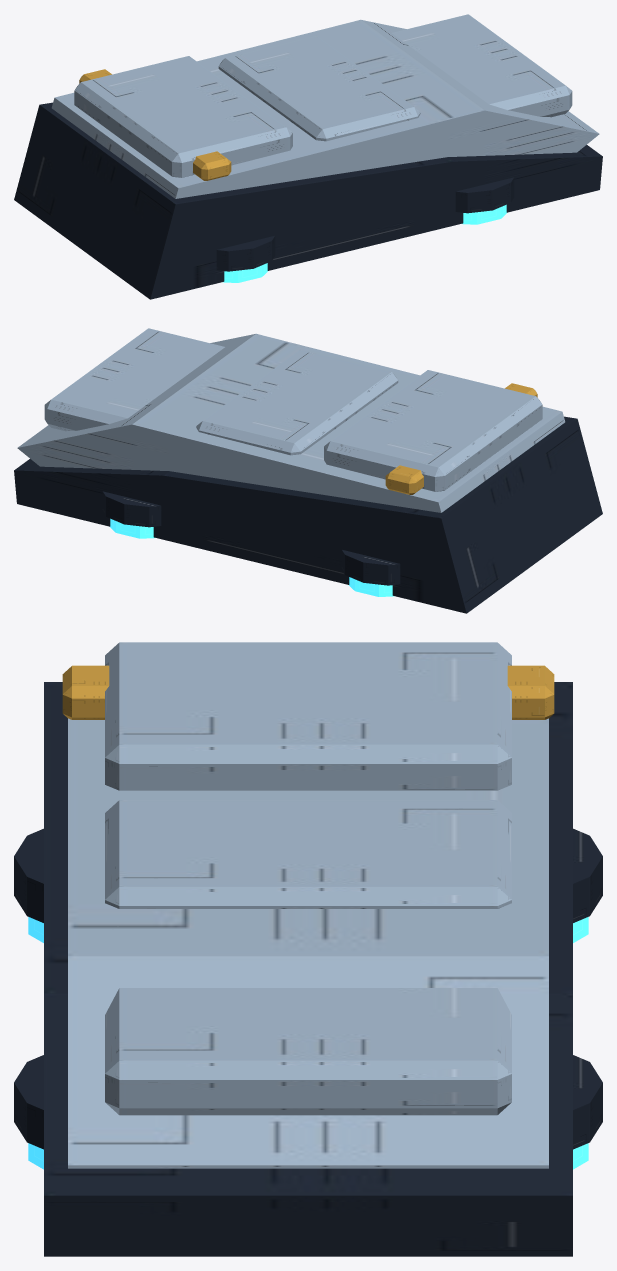
The model's file is hover.glb.
The picture shows the model from 3 angles, top to bottom: view 1: azimuth 30°, elevation 25°; view 2: azimuth 150°, elevation 25°; view 3: azimuth 270°, elevation 25°; orthographic projection. The views are drawn at different scales.
Visible parts, largest first — view 1: foot_L, foot_R; view 2: foot_L; view 3: foot_L, foot_R.
Boxes of the visible parts, <box> form: foot_L: <box>14,14,602,299</box>; foot_R: <box>193,151,514,282</box>; foot_L: <box>14,328,602,613</box>; foot_L: <box>44,642,602,1256</box>; foot_R: <box>14,665,109,1169</box>.
Bounding box in the file's own units: 0.305 × 0.0775 × 0.176.
4 materials, 4 textured.
